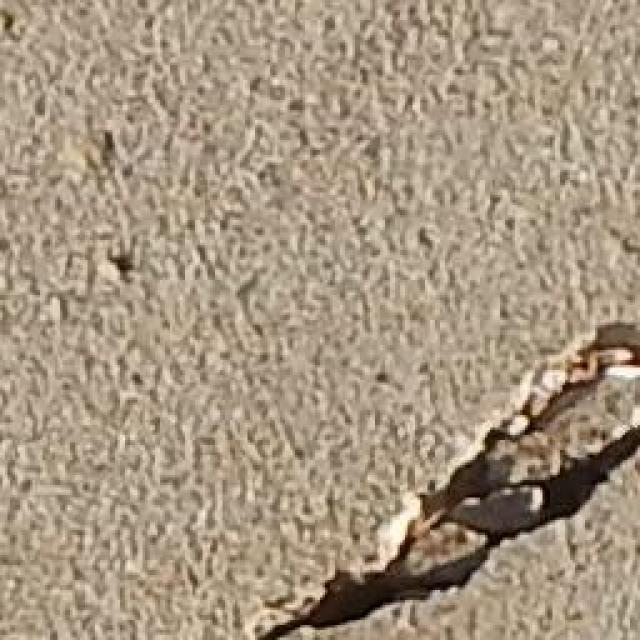concrete-crack: (263, 328, 640, 636)
